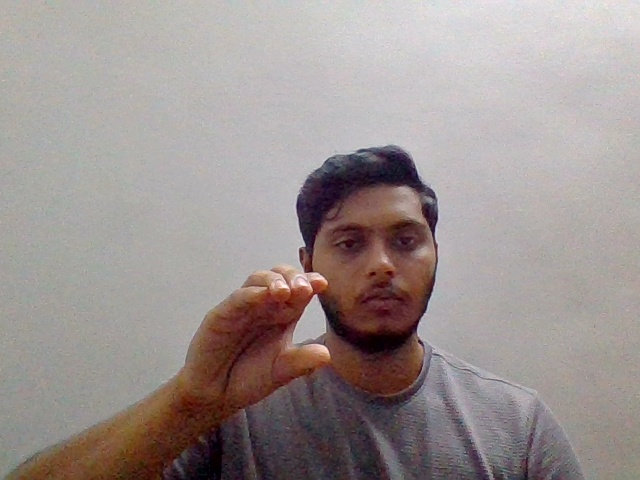No: (176, 258, 336, 427)
